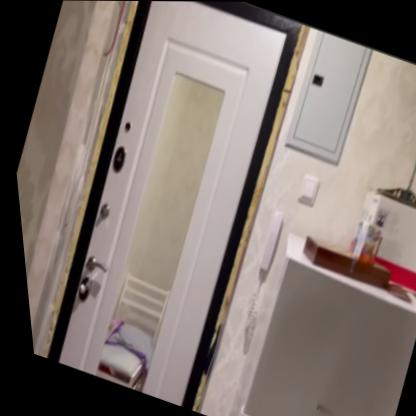Door: (22, 0, 312, 408)
